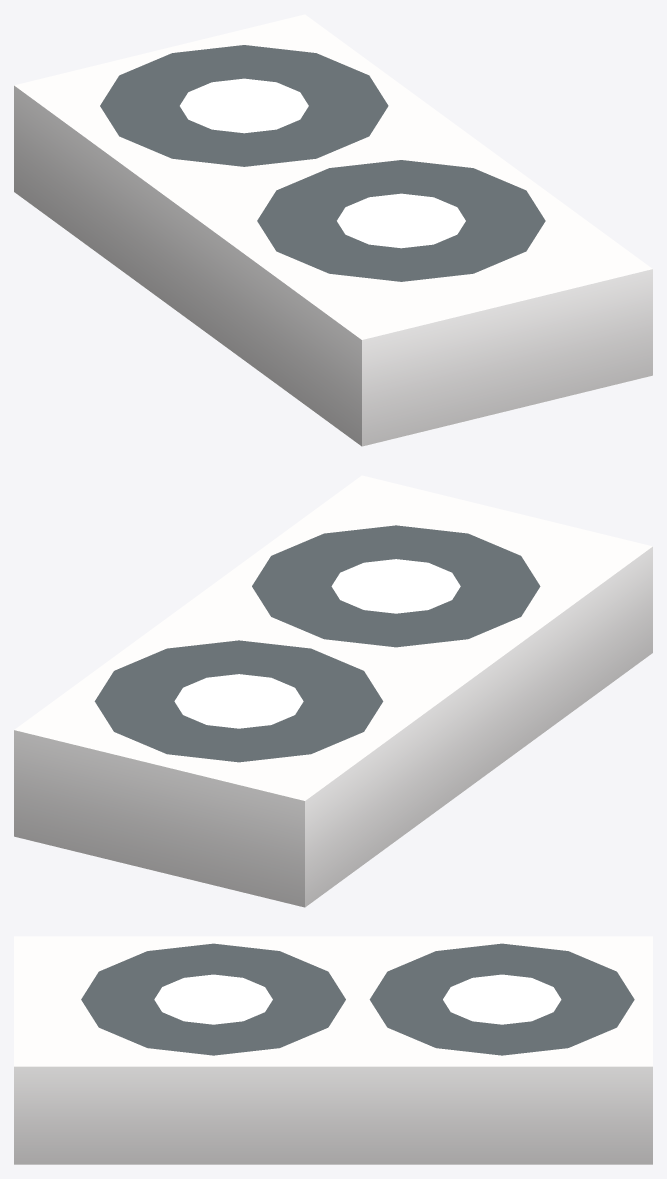
File: Rooftop_Ventilation_04.glb
3 views of the same model, one above another, from view 1: azimuth 30°, elevation 25°; view 2: azimuth 150°, elevation 25°; view 3: azimuth 270°, elevation 25° (orthographic). The views are drawn at different scales.
Parts seen in each view (by area): view 1: Rooftop_Ventilation_04; view 2: Rooftop_Ventilation_04; view 3: Rooftop_Ventilation_04.
Part boxes in pixels (left/top/right/bottom): Rooftop_Ventilation_04: left=14, top=14, right=652, bottom=446; Rooftop_Ventilation_04: left=14, top=475, right=652, bottom=907; Rooftop_Ventilation_04: left=14, top=936, right=652, bottom=1164.
Size of the model in its own units: 1.09 by 0.395 by 2.27.
1 material, 1 textured.
